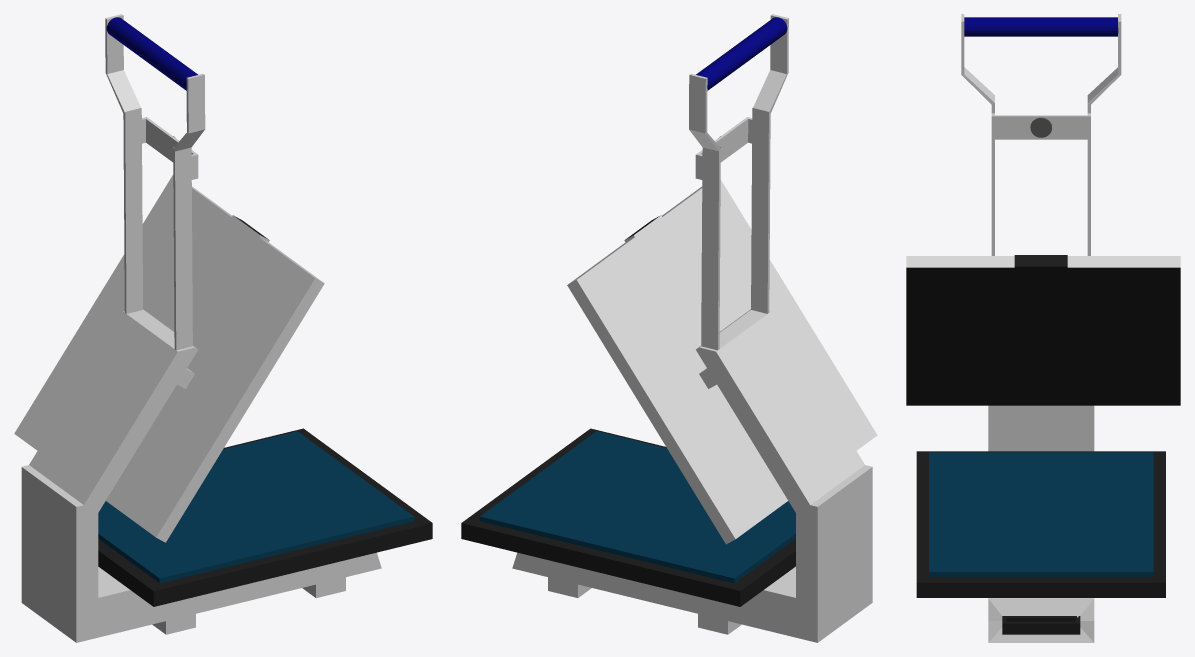
The model's file is pressmachine.fbx.
The picture shows the model from 3 angles, left to right: view 1: azimuth 30°, elevation 25°; view 2: azimuth 150°, elevation 25°; view 3: azimuth 270°, elevation 25°; orthographic projection. The views are drawn at different scales.
Parts seen in each view (by area): view 1: Cube, Cylinder; view 2: Cube, Cylinder; view 3: Cube, Cylinder.
Boxes of the visible parts, bbox=[...] form: Cube: bbox=[14, 14, 432, 642]; Cylinder: bbox=[106, 17, 198, 90]; Cube: bbox=[461, 14, 877, 642]; Cylinder: bbox=[696, 17, 787, 90]; Cube: bbox=[906, 14, 1180, 642]; Cylinder: bbox=[964, 17, 1118, 36].
Bounding box in the file's own units: 266 × 450 × 205.
